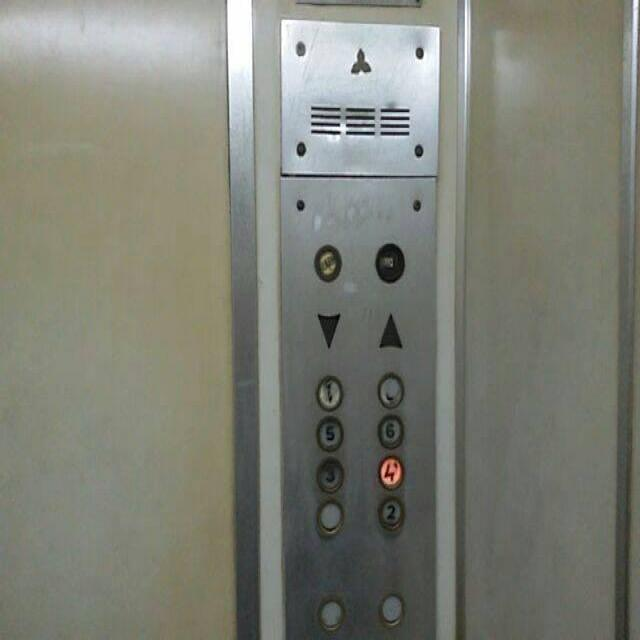2: (377, 496, 403, 529)
3: (316, 456, 343, 492)
5: (315, 414, 343, 450)
6: (377, 413, 403, 448)
blur: (376, 372, 404, 408), (316, 375, 342, 409), (377, 455, 403, 488)
empty: (317, 594, 343, 630), (317, 499, 343, 533), (378, 592, 404, 625)
text_blur: (374, 241, 404, 283), (313, 243, 341, 281)
